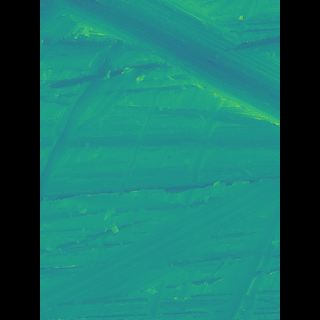Loch: (69, 0, 249, 320)
